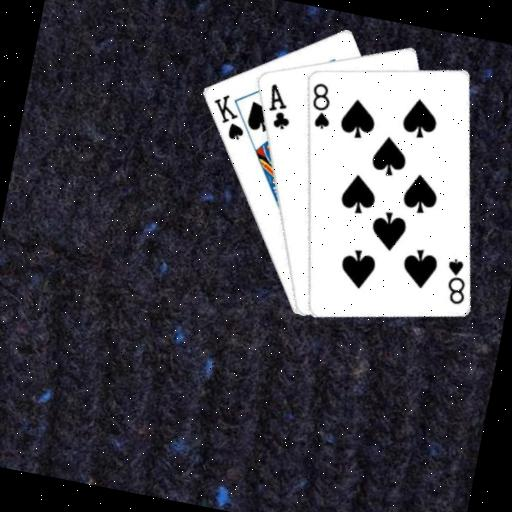8S: (302, 78, 338, 132), (437, 254, 473, 308)
AC: (259, 79, 298, 132)
KS: (204, 88, 253, 143)
